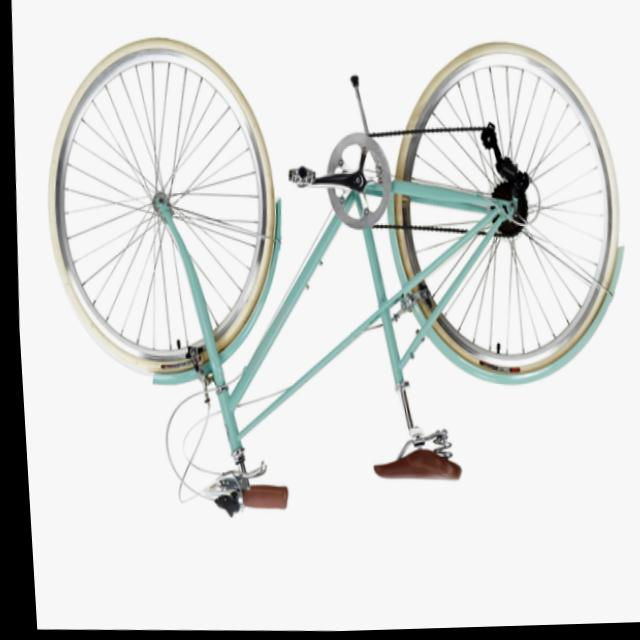urban-bike: (25, 21, 640, 535)
